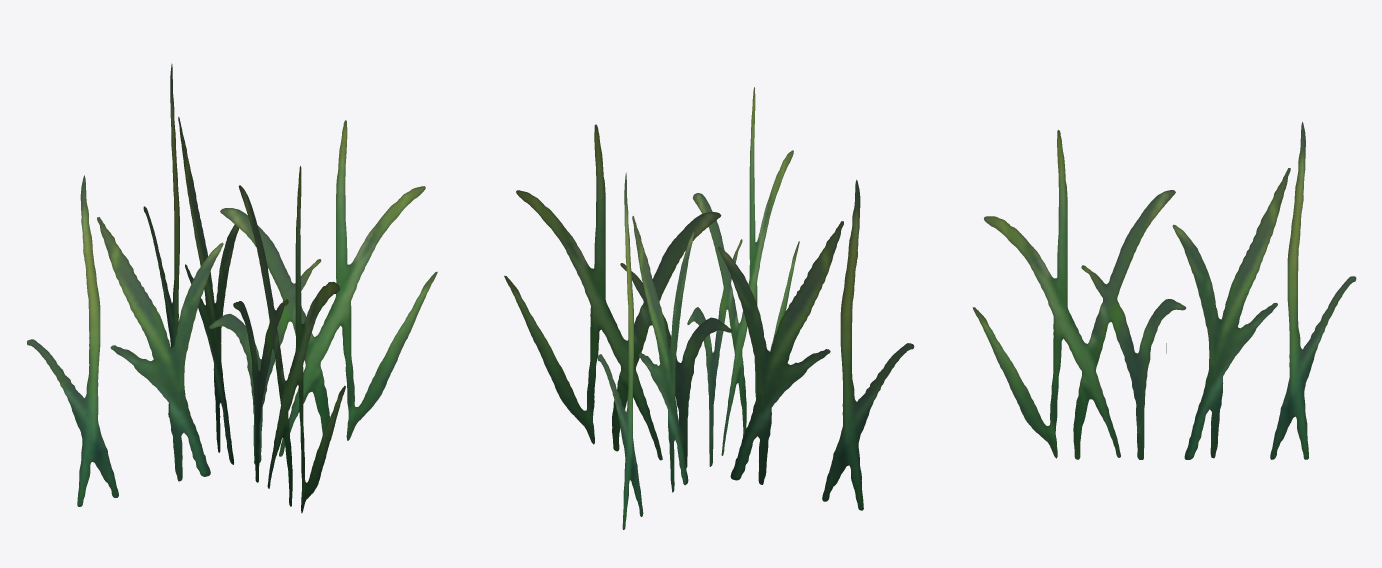
The model's file is sucai_02_02.FBX.
3 renders of one model, left to right at view 1: azimuth 30°, elevation 25°; view 2: azimuth 150°, elevation 25°; view 3: azimuth 270°, elevation 25°, orthographic. The views are drawn at different scales.
Visible parts, largest first — view 1: sucai_02; view 2: sucai_02; view 3: sucai_02.
Boxes of the visible parts, x1,y1,x2,y2 form: sucai_02: [27, 63, 437, 513]; sucai_02: [504, 87, 914, 529]; sucai_02: [972, 122, 1356, 459].
Size of the model in its own units: 45.5 by 37.51 by 38.8.
